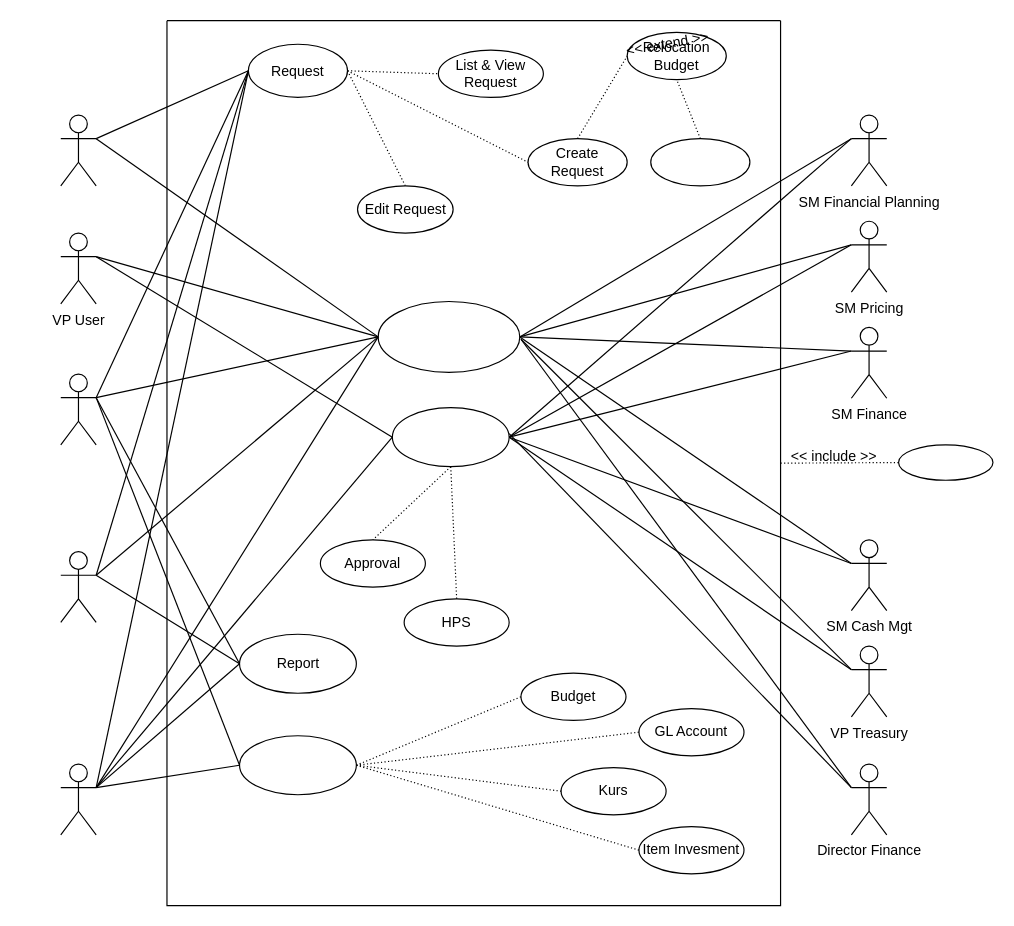
This 1014x926 diagram has some shape labels left out. Here are the shapes that lost their labels. From the top down, the box of each, then its label:
(60, 114, 96, 186): User
(650, 137, 750, 186): Approve Relocation
(377, 300, 520, 372): Dashboard
(60, 373, 96, 445): Financial Planning
(391, 407, 509, 467): Need Approval
(897, 444, 993, 480): Login
(60, 550, 96, 622): Pricing
(238, 735, 356, 795): Master Data
(60, 763, 96, 835): Financial Analyst
